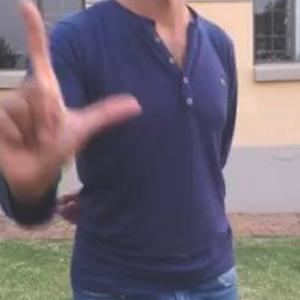land_hand: (0, 0, 147, 189)
